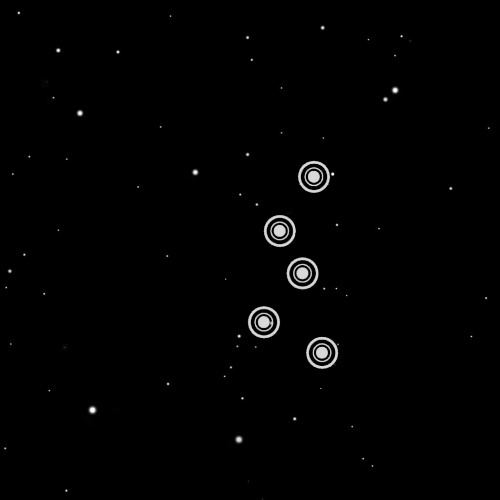cassiopeia: (239, 150, 350, 378)
